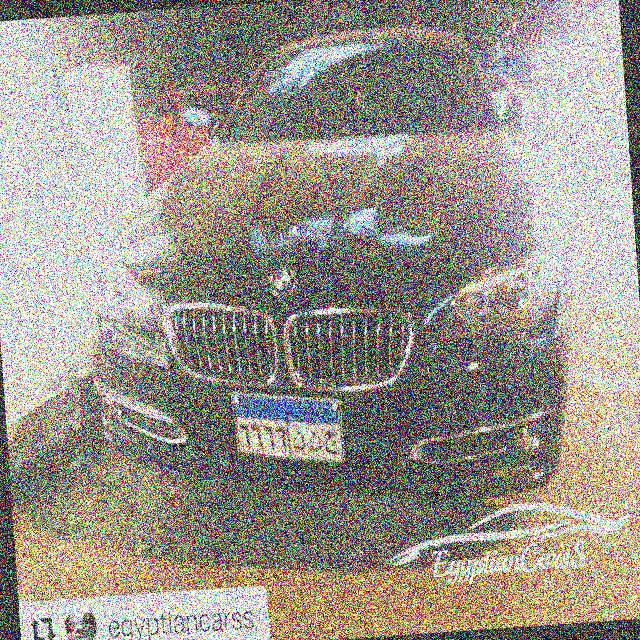License Plate: (226, 381, 347, 475)
